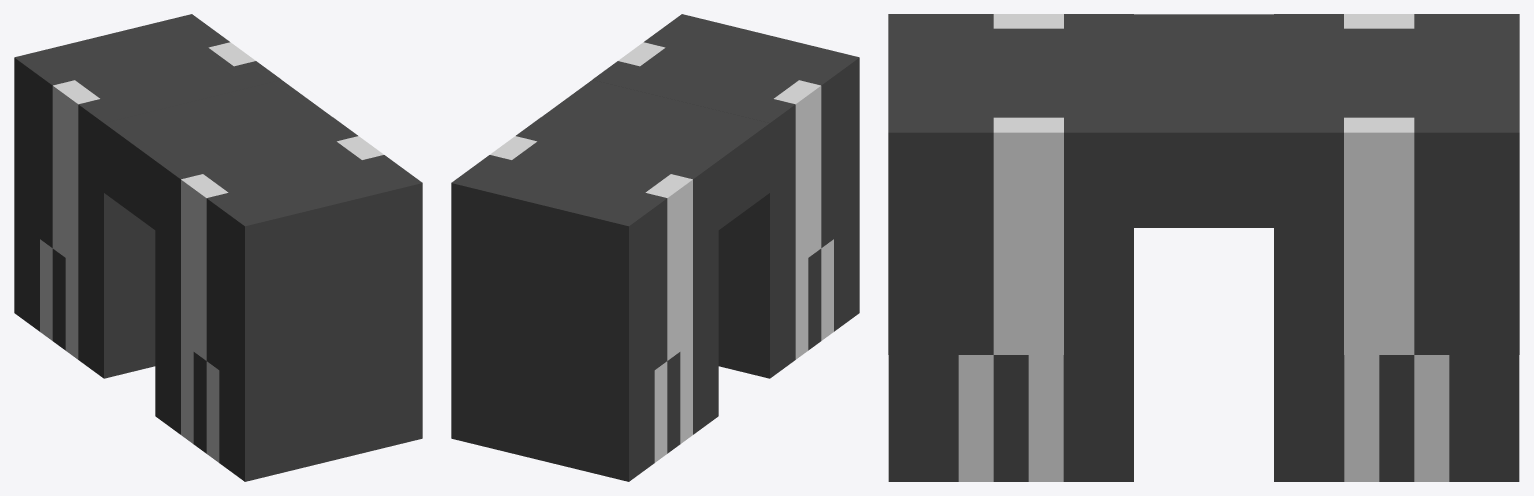
Rendered from av_bottom_bones.glb.
3 renders of one model, left to right at view 1: azimuth 30°, elevation 25°; view 2: azimuth 150°, elevation 25°; view 3: azimuth 270°, elevation 25°, orthographic. The views are drawn at different scales.
Visible parts, largest first — view 1: model-1; view 2: model-1; view 3: model-1.
Boxes of the visible parts, x1,y1,x2,y2 form: model-1: (14, 14, 422, 481); model-1: (451, 14, 859, 481); model-1: (888, 14, 1519, 481).
Size of the model in its own units: 0.0801 by 0.11 by 0.1801.
1 material, 1 textured.
